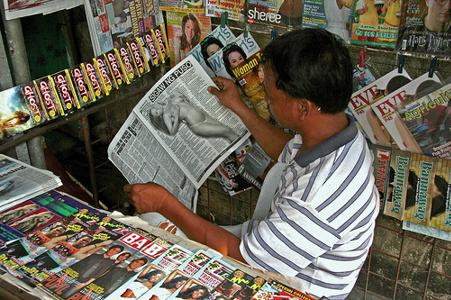person: (123, 29, 381, 300)
